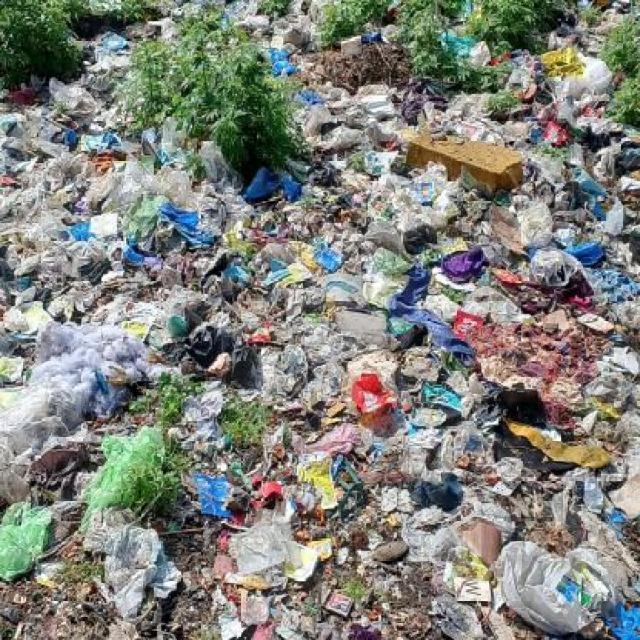garbage: (0, 157, 639, 640), (288, 68, 610, 154), (0, 71, 124, 158), (282, 2, 396, 70), (73, 0, 142, 69), (438, 21, 510, 74), (563, 0, 616, 68), (126, 119, 214, 156), (216, 0, 270, 38), (260, 2, 280, 70)
